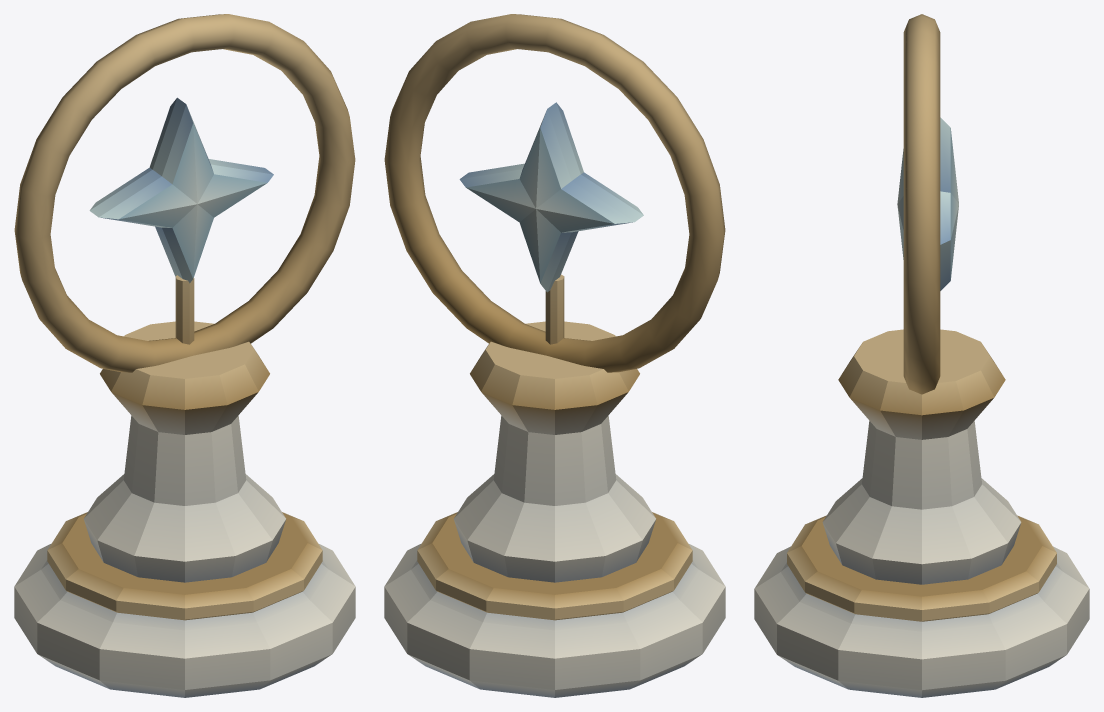
The model's file is Sky_Celestial_Halo_Monument.glb.
The picture shows the model from 3 angles, left to right: view 1: azimuth 30°, elevation 25°; view 2: azimuth 150°, elevation 25°; view 3: azimuth 270°, elevation 25°; orthographic projection.
Visible parts, largest first — view 1: Sky_Celestial_Halo_Monument; view 2: Sky_Celestial_Halo_Monument; view 3: Sky_Celestial_Halo_Monument.
Boxes of the visible parts, bbox=[...] form: Sky_Celestial_Halo_Monument: bbox=[14, 14, 355, 697]; Sky_Celestial_Halo_Monument: bbox=[384, 14, 725, 697]; Sky_Celestial_Halo_Monument: bbox=[754, 14, 1089, 697].
Size of the model in its own units: 0.73 by 1.27 by 0.64.
